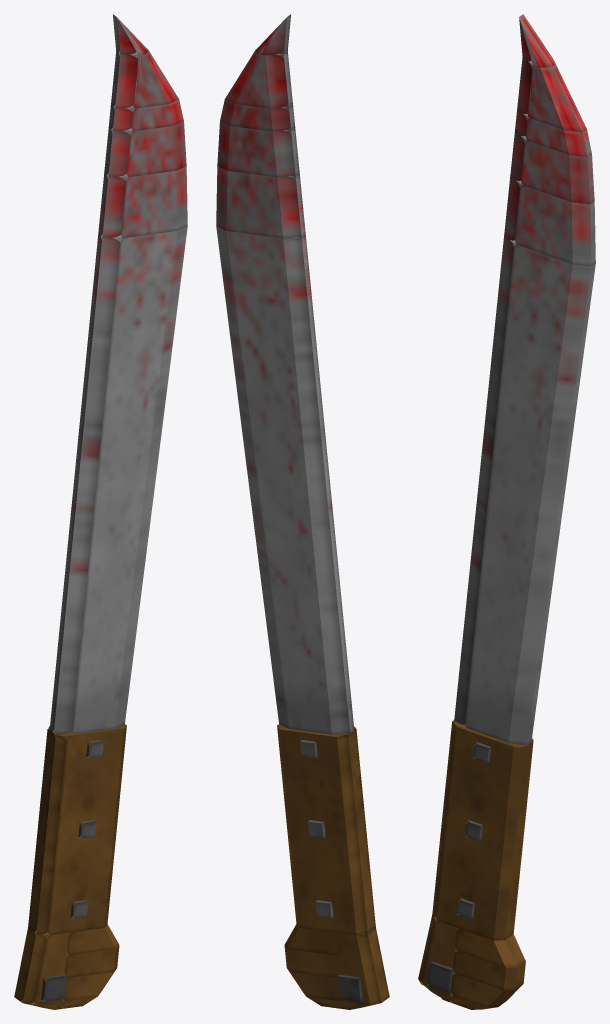
File: machete.obj
3 views of the same model, side by side, from view 1: azimuth 30°, elevation 25°; view 2: azimuth 150°, elevation 25°; view 3: azimuth 330°, elevation 25° (orthographic). The views are drawn at different scales.
Parts seen in each view (by area): view 1: gunModel22, gunModel7, gunModel29, gunModel30, gunModel33, gunModel21, gunModel12, gunModel0, gunModel31, gunModel11, gunModel8, gunModel10 (+3 smaller); view 2: gunModel23, gunModel14, gunModel34, gunModel35, gunModel38, gunModel21, gunModel19, gunModel0, gunModel36, gunModel18, gunModel15, gunModel17 (+3 smaller); view 3: gunModel22, gunModel7, gunModel29, gunModel30, gunModel33, gunModel21, gunModel0, gunModel31, gunModel12, gunModel11, gunModel8, gunModel10 (+3 smaller).
Part boxes in pixels (x1,y1,x2,y2): gunModel22: [53, 226, 187, 734]; gunModel7: [36, 725, 126, 935]; gunModel29: [102, 166, 187, 238]; gunModel30: [108, 121, 186, 177]; gunModel33: [115, 50, 178, 108]; gunModel21: [49, 234, 122, 731]; gunModel12: [22, 932, 68, 1005]; gunModel0: [28, 724, 126, 932]; gunModel31: [113, 99, 183, 131]; gunModel11: [65, 945, 119, 977]; gunModel8: [66, 924, 119, 955]; gunModel10: [62, 970, 115, 1001]; gunModel23: [216, 226, 349, 734]; gunModel14: [277, 725, 367, 935]; gunModel34: [216, 166, 301, 238]; gunModel35: [217, 121, 295, 177]; gunModel38: [225, 50, 288, 108]; gunModel21: [294, 236, 353, 733]; gunModel19: [335, 932, 380, 1005]; gunModel0: [277, 724, 375, 933]; gunModel36: [220, 99, 290, 131]; gunModel18: [284, 945, 338, 977]; gunModel15: [284, 924, 337, 955]; gunModel17: [288, 970, 341, 1001]; gunModel22: [454, 235, 591, 744]; gunModel7: [432, 721, 524, 940]; gunModel29: [504, 176, 591, 266]; gunModel30: [510, 131, 590, 204]; gunModel33: [517, 57, 582, 131]; gunModel21: [510, 240, 595, 744]; gunModel0: [453, 719, 533, 939]; gunModel31: [515, 109, 587, 156]; gunModel12: [418, 915, 457, 994]; gunModel11: [453, 950, 517, 990]; gunModel8: [455, 928, 517, 968]; gunModel10: [450, 974, 514, 1007].
Bounding box in the file's own units: 23.38 × 130 × 5.
